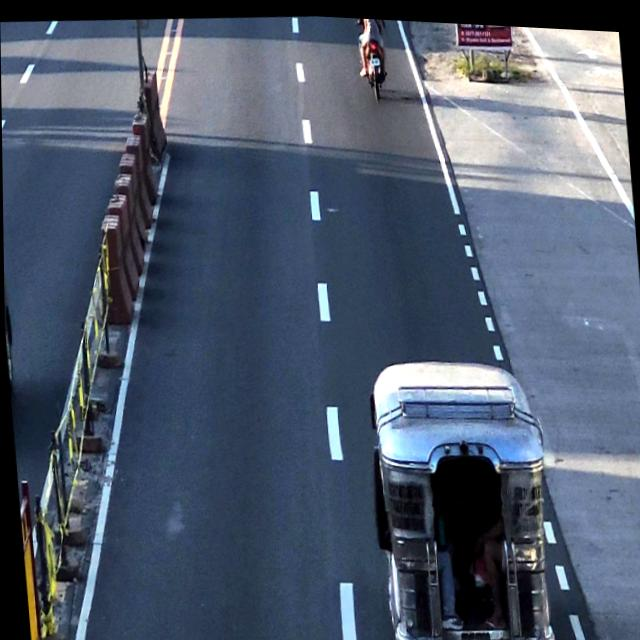Jeep: (359, 345, 557, 640)
Motorcycle: (356, 15, 395, 101)
